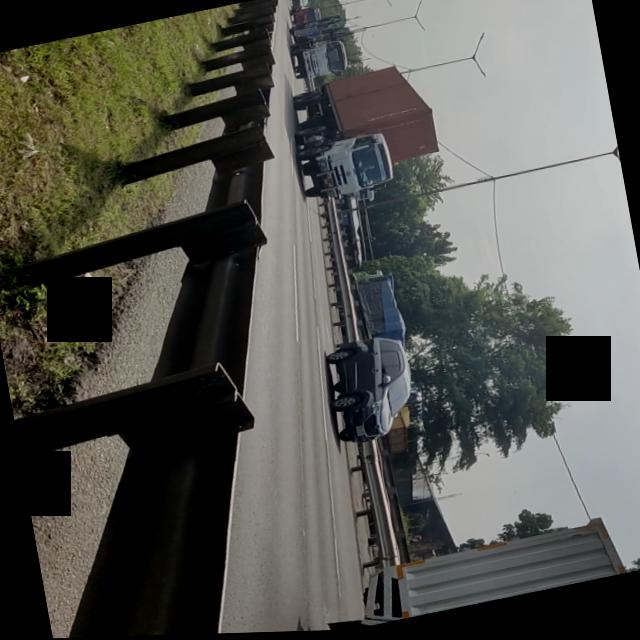Golongan I: (316, 330, 422, 452)
Golongan IV: (277, 63, 445, 209)
